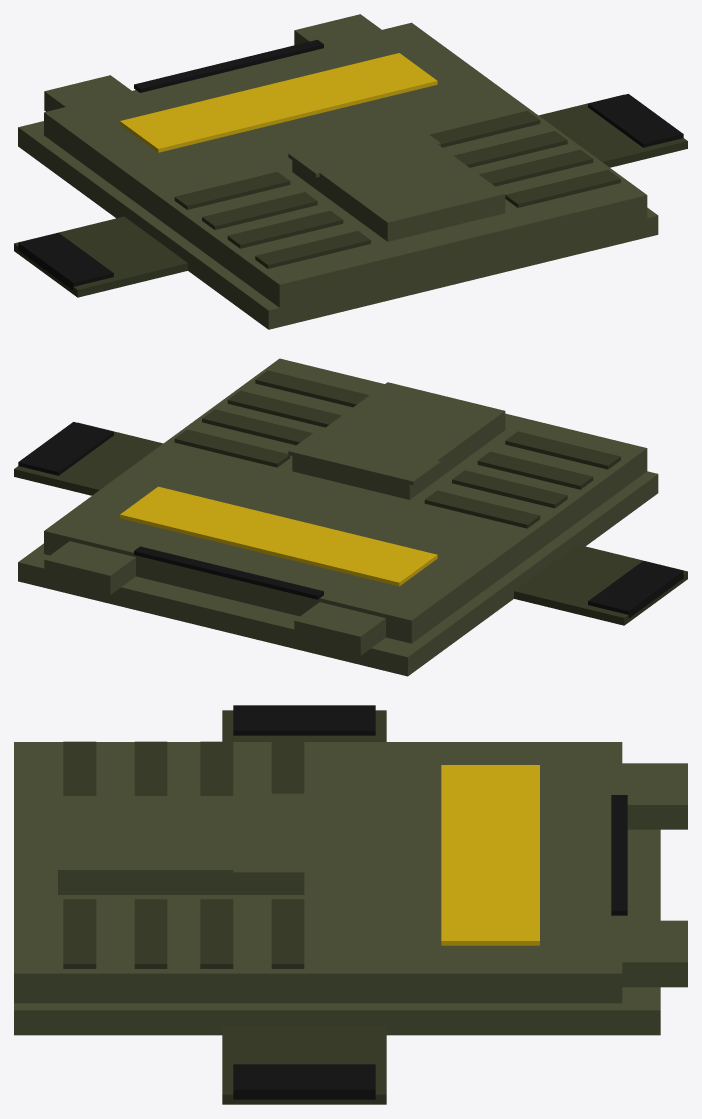
File: agency_ballistic_vest.glb
3 renders of one model, top to bottom at view 1: azimuth 30°, elevation 25°; view 2: azimuth 150°, elevation 25°; view 3: azimuth 270°, elevation 25°, orthographic. The views are drawn at different scales.
Visible parts, largest first — view 1: agency_ballistic_vest:compound; view 2: agency_ballistic_vest:compound; view 3: agency_ballistic_vest:compound.
Boxes of the visible parts, left/top/right/bottom form: agency_ballistic_vest:compound: left=14, top=14, right=687, bottom=329; agency_ballistic_vest:compound: left=14, top=358, right=687, bottom=676; agency_ballistic_vest:compound: left=14, top=705, right=687, bottom=1104.
Bounding box in the file's own units: 0.664 × 0.064 × 0.492.
